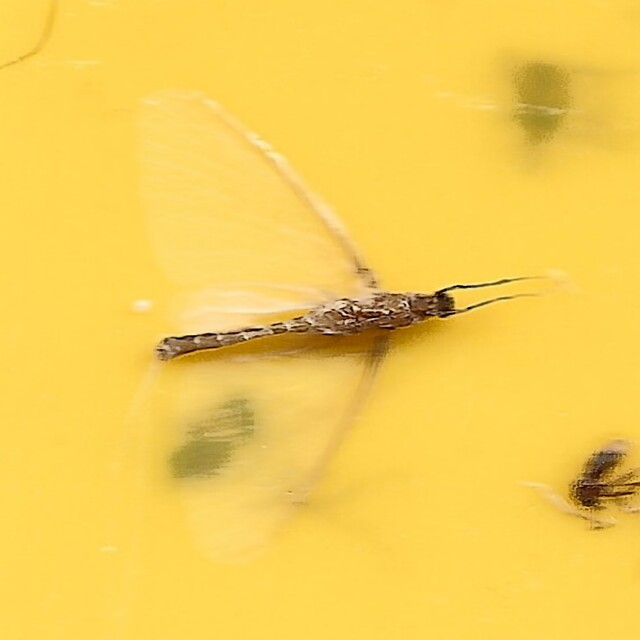Ephemeroptera: (112, 82, 528, 558)
